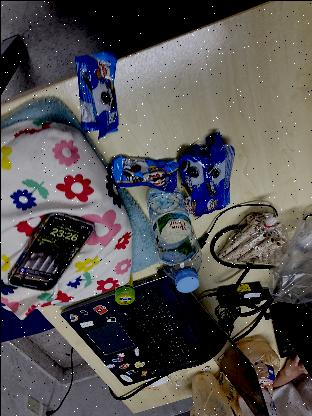Others: (266, 215, 312, 311), (71, 48, 118, 140), (214, 211, 286, 267), (202, 128, 236, 218), (226, 336, 280, 390), (176, 141, 210, 221), (105, 154, 177, 190), (188, 370, 232, 416), (247, 362, 274, 388)
Plastic Bottle: (144, 181, 202, 292)
